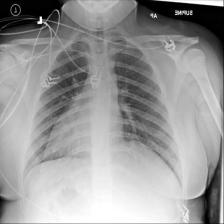normal: (19, 33, 188, 193)
